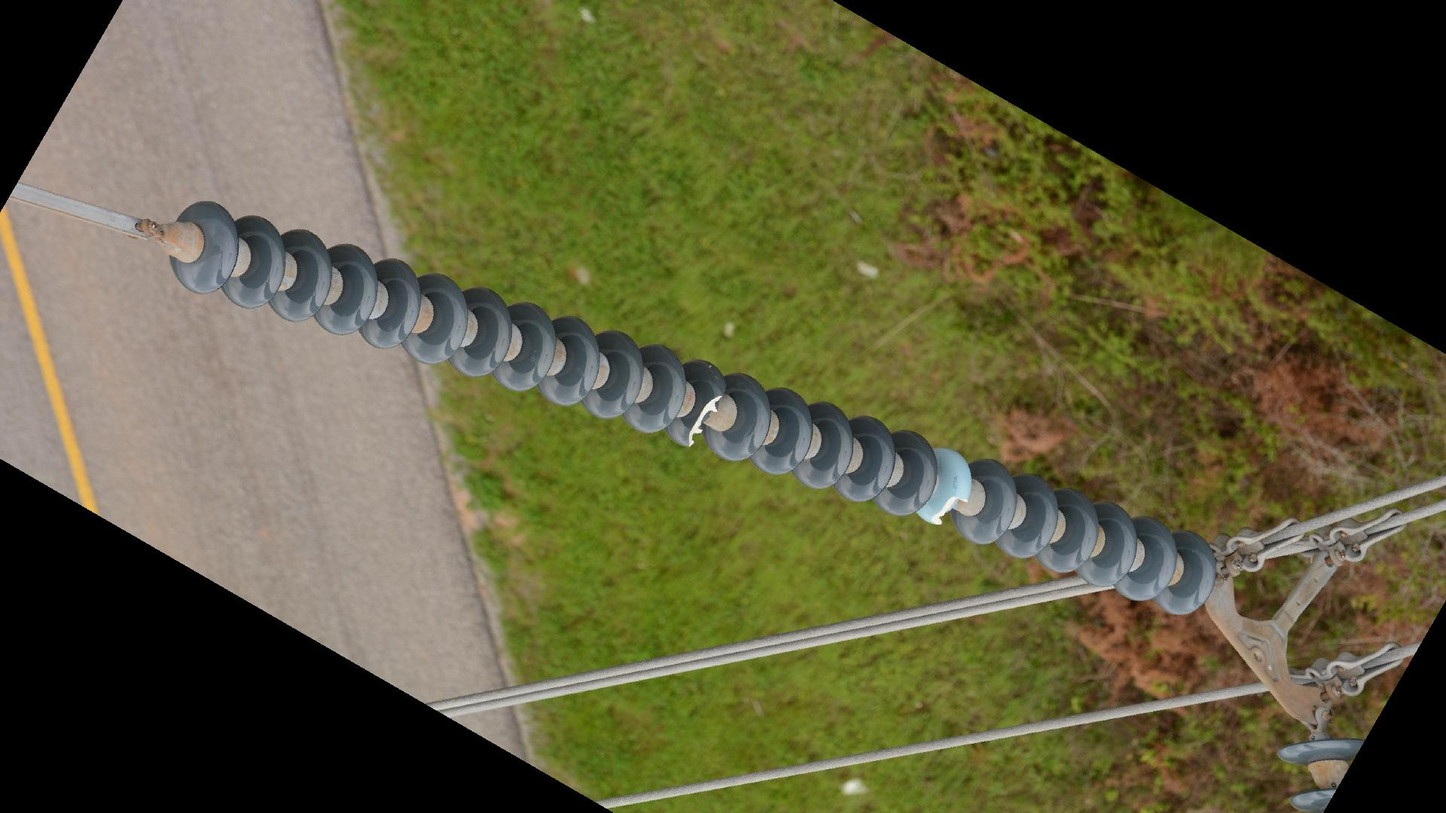insulator: (166, 198, 1223, 625), (1271, 733, 1369, 813)
insulator_breakage: (681, 387, 728, 450), (927, 490, 972, 530)
